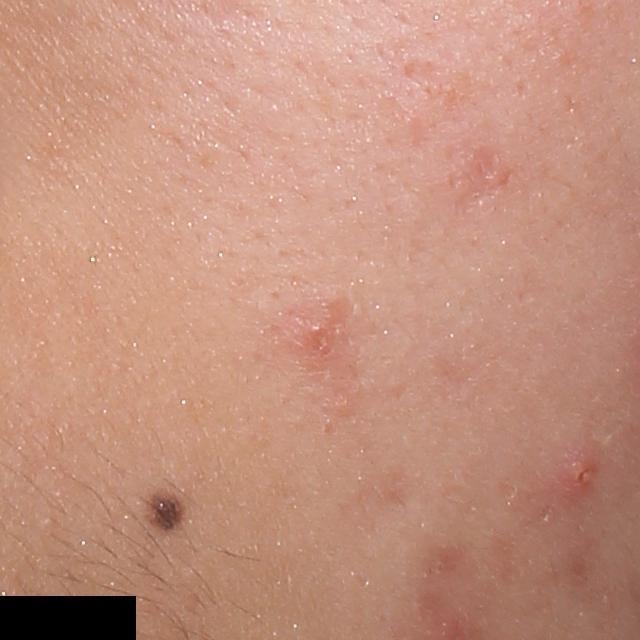atrophic_scar: (447, 145, 504, 213), (398, 57, 455, 107)
nevus: (150, 490, 184, 533)
